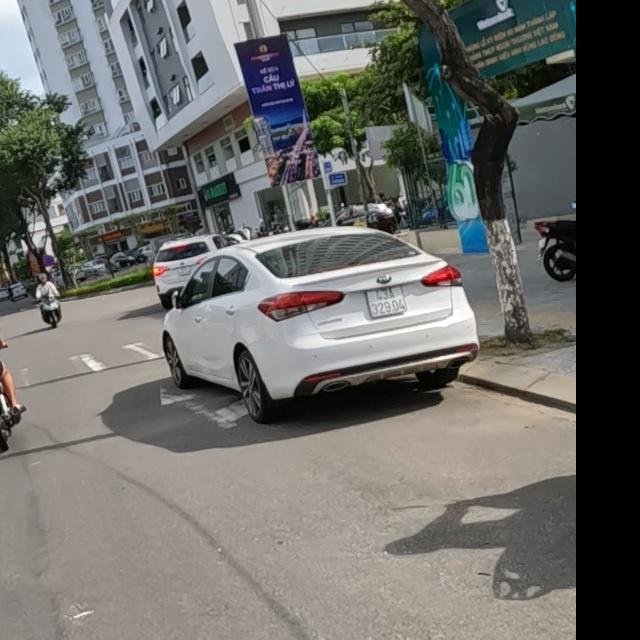license-plate: (366, 283, 409, 318)
